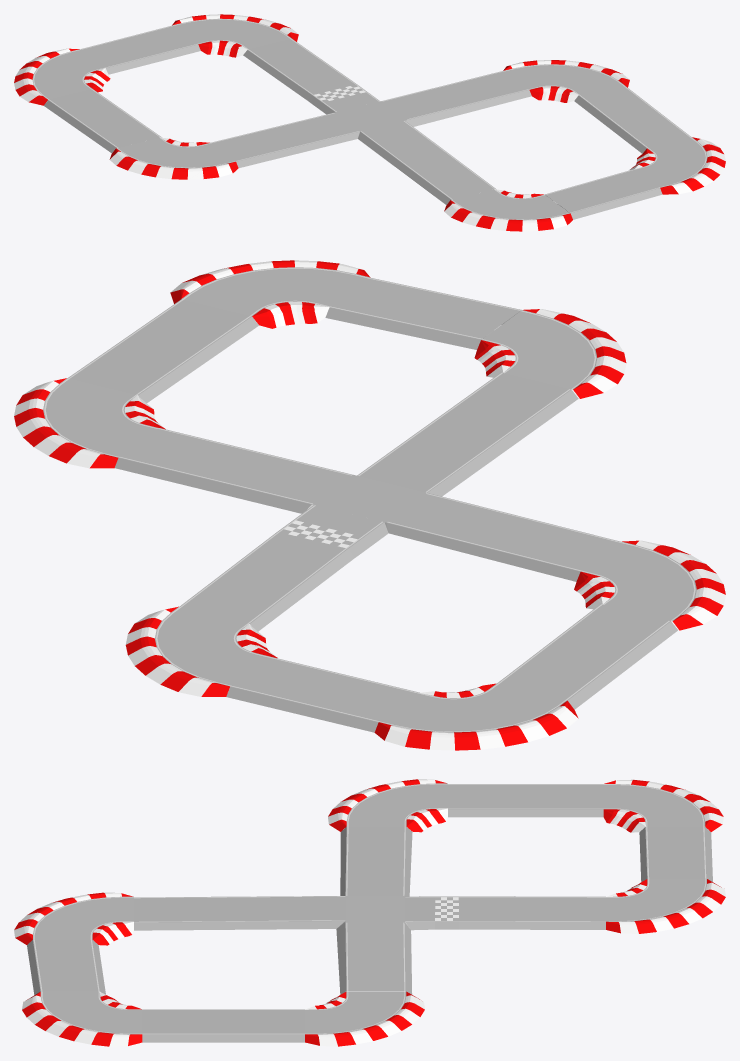
The model's file is RaceTrack_2.fbx.
3 renders of one model, top to bottom at view 1: azimuth 30°, elevation 25°; view 2: azimuth 150°, elevation 25°; view 3: azimuth 270°, elevation 25°, orthographic. The views are drawn at different scales.
Parts seen in each view (by area): view 1: RaceTrack; view 2: RaceTrack; view 3: RaceTrack.
Part boxes in pixels (x1,y1,x2,y2): RaceTrack: (14, 14, 725, 231); RaceTrack: (14, 260, 725, 750); RaceTrack: (14, 779, 725, 1046).
Size of the model in its own units: 106 by 1.91 by 119.
